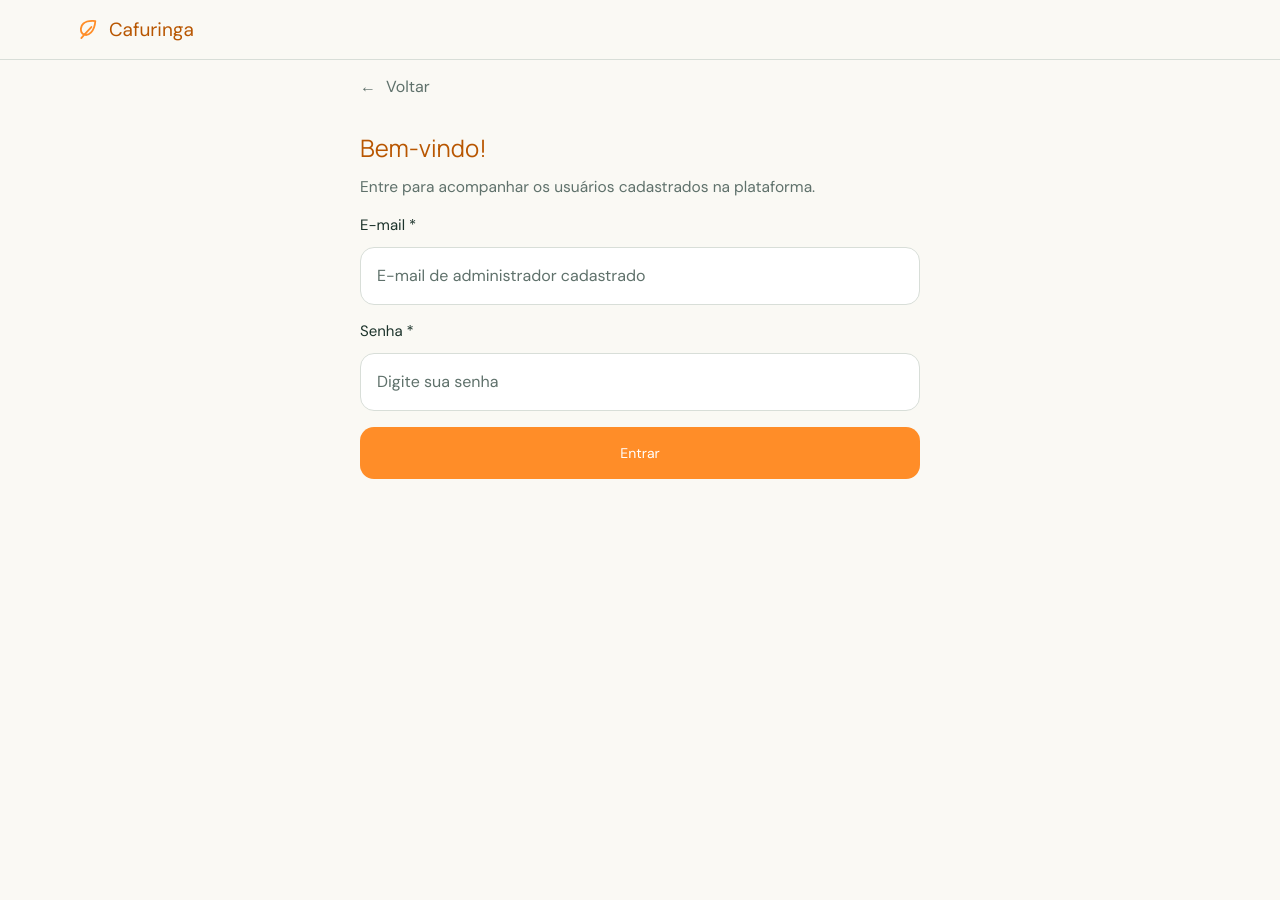
Test: cadastro de administrador — HU03 › preserva os dados para nova tentativa quando a conexão falha
This screenshot has width=1280, height=900.
Type "admin@exemplo.com" into the field labelled "E-mail".
click(640, 276); type("admin@exemplo.com")  # box [360,247,920,305]
Type "senha123" into the password field labelled "Senha".
click(640, 382); type("senha123")  # box [360,353,920,411]
Click the button "Entrar".
click(640, 453)  # box [360,427,920,479]
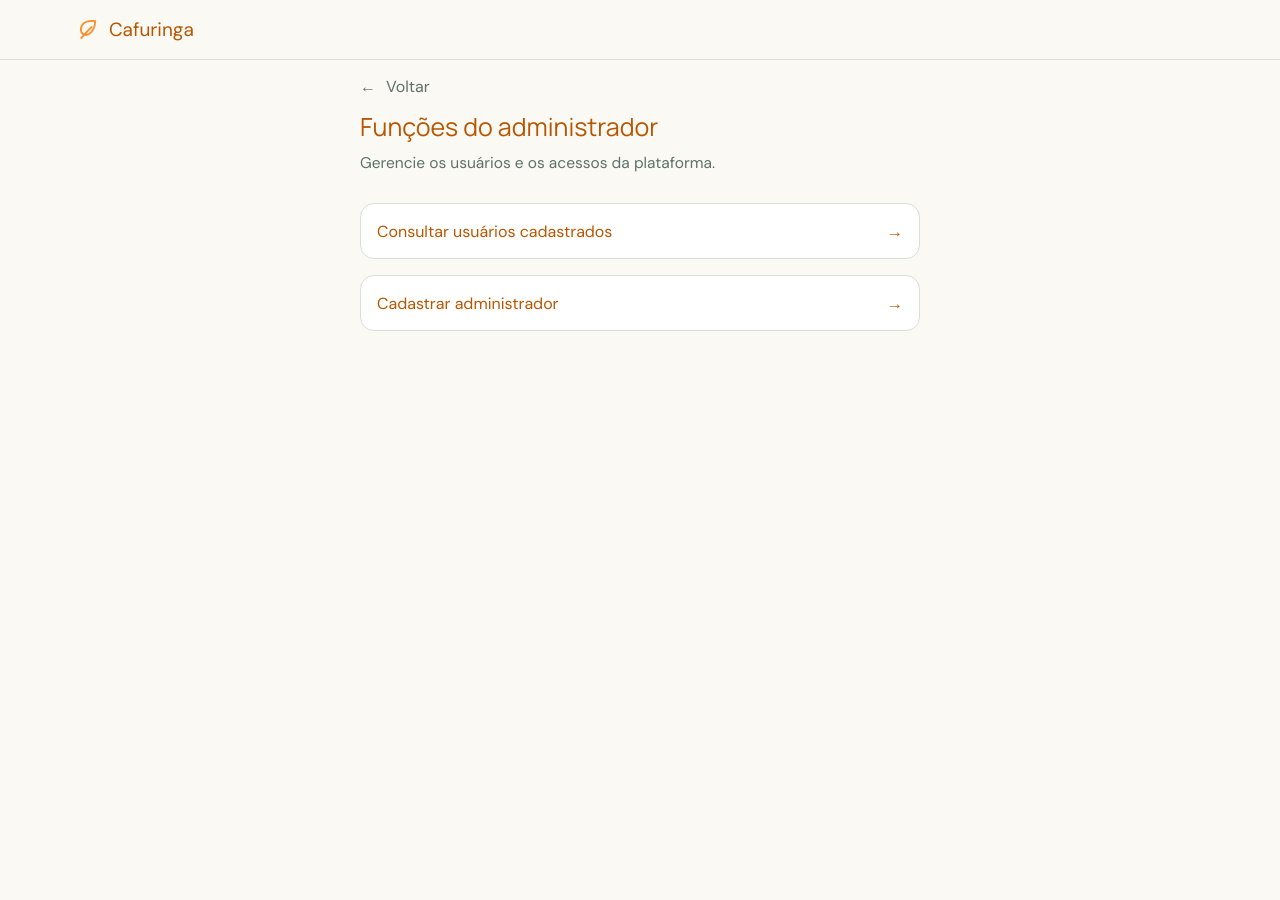
Result: the heading "Funções do administrador" is shown at [360,109,658,144]
Click the link "Cadastrar administrador →".
click(468, 303)  # box [360,275,920,331]
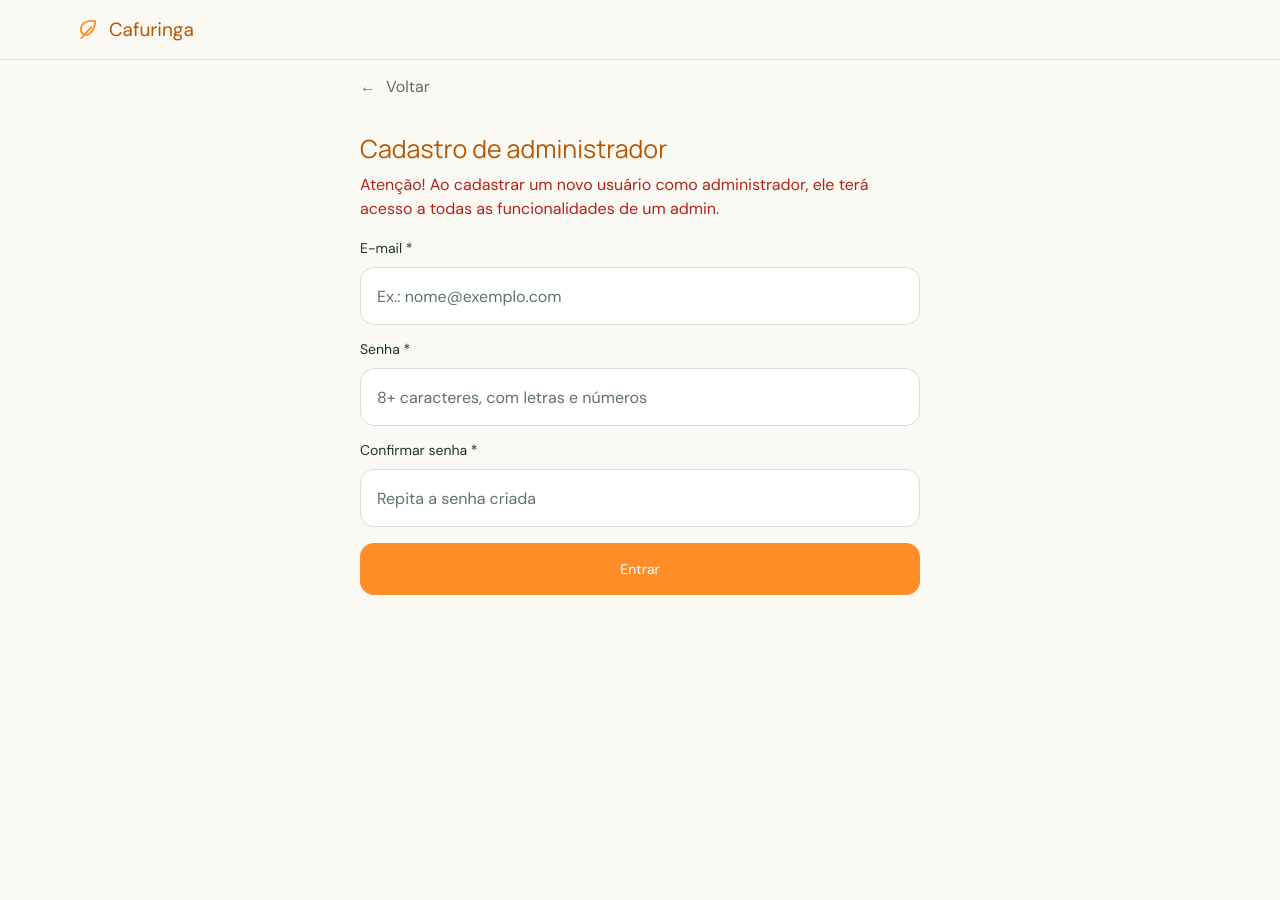
Result: the heading "Cadastro de administrador" is shown at [360,131,667,166]
Type "ana@exemplo.com" into the field labelled "E-mail".
click(640, 296); type("ana@exemplo.com")  # box [360,267,920,325]
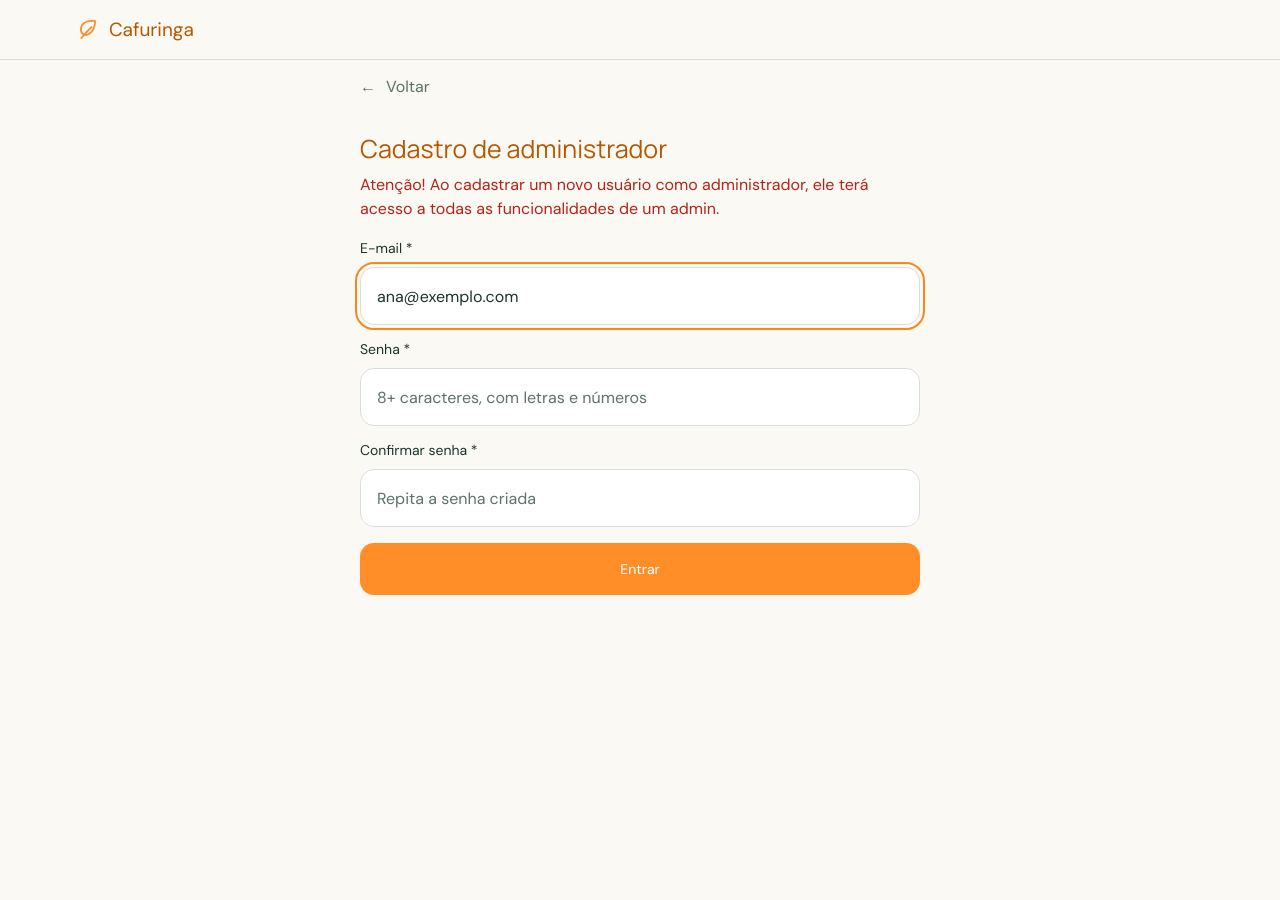
Type "SenhaForte123" into the password field labelled "Senha".
click(640, 397); type("SenhaForte123")  # box [360,368,920,426]
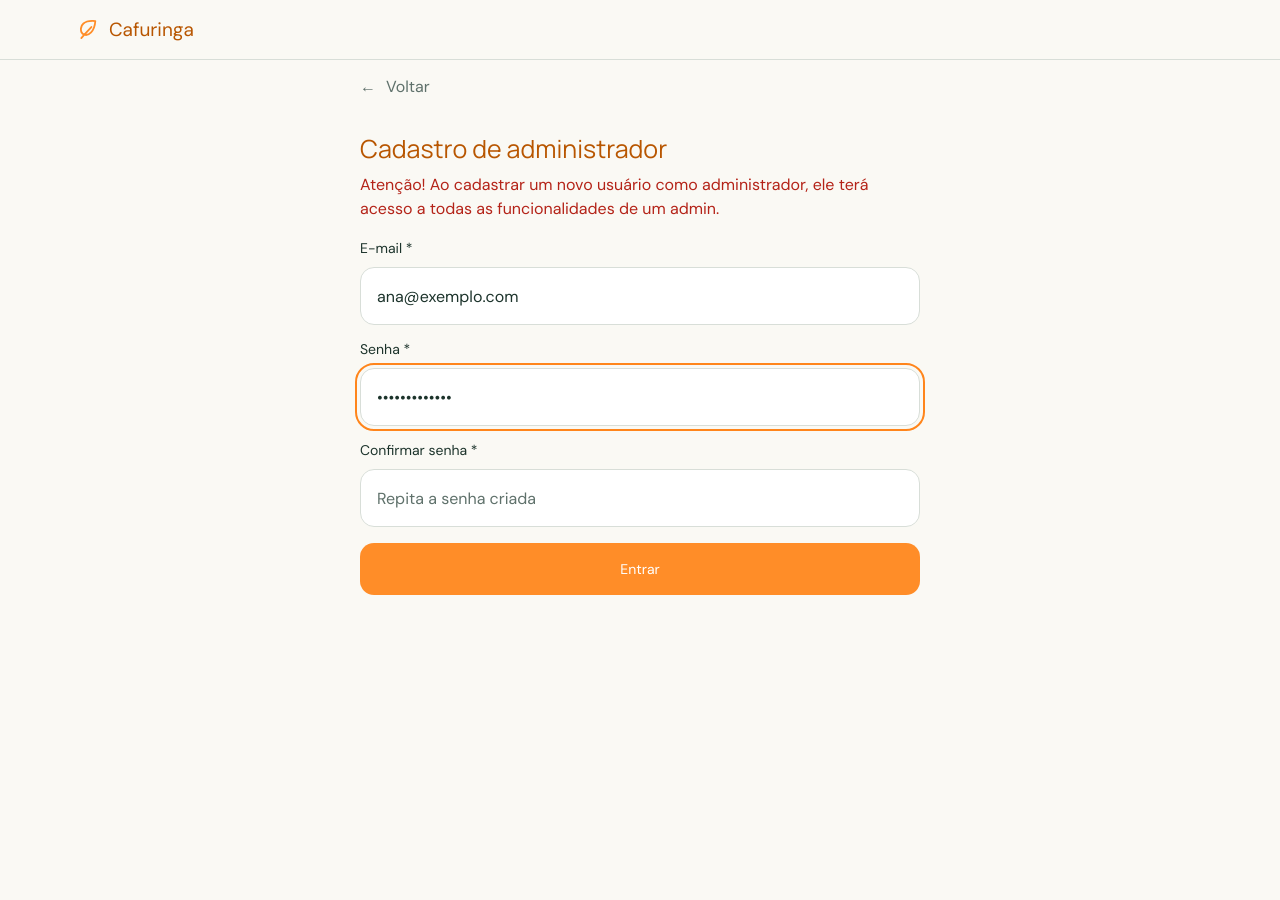
Type "SenhaForte123" into the password field labelled "Confirmar senha".
click(640, 498); type("SenhaForte123")  # box [360,469,920,527]
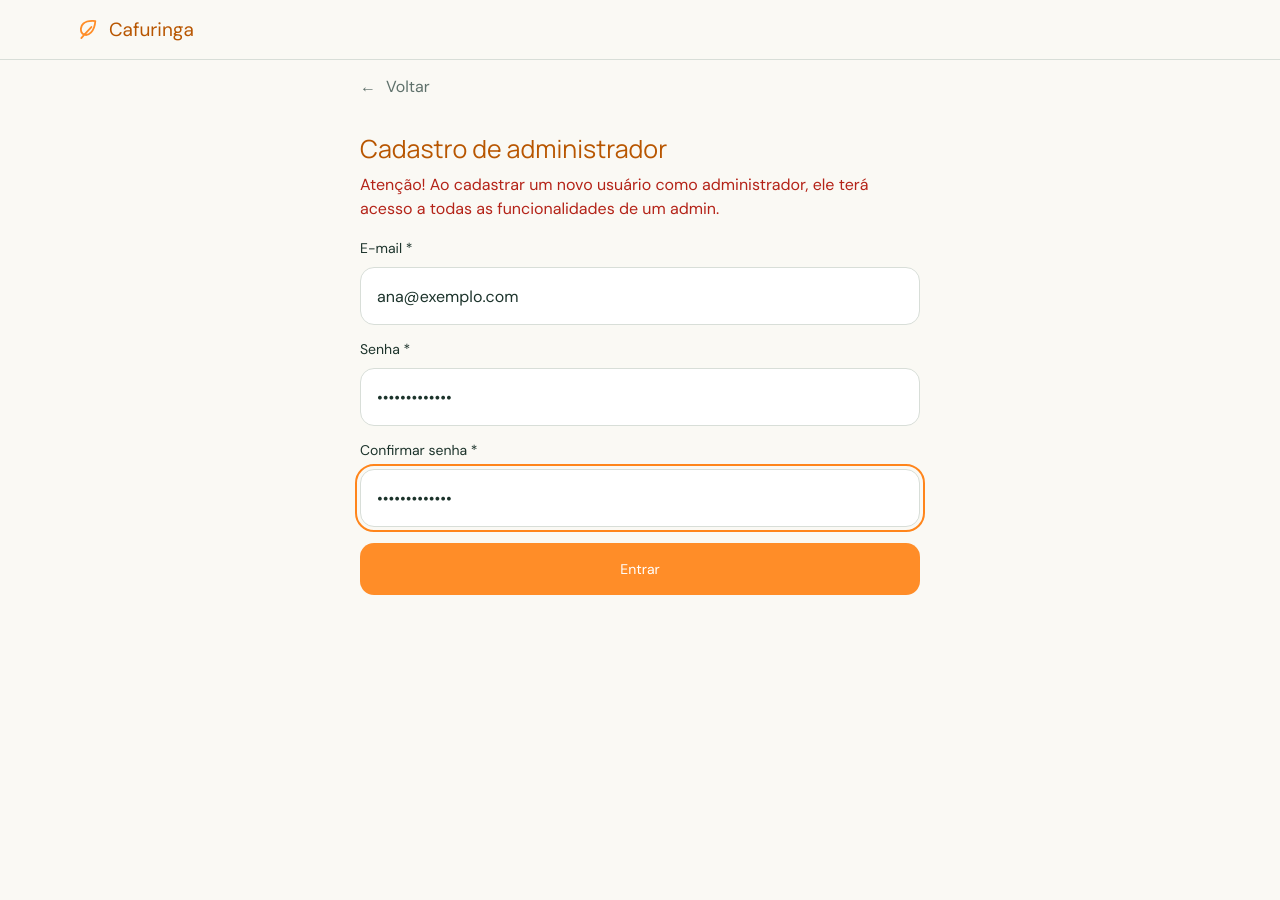
Click the button "Entrar".
click(640, 569)  # box [360,543,920,595]
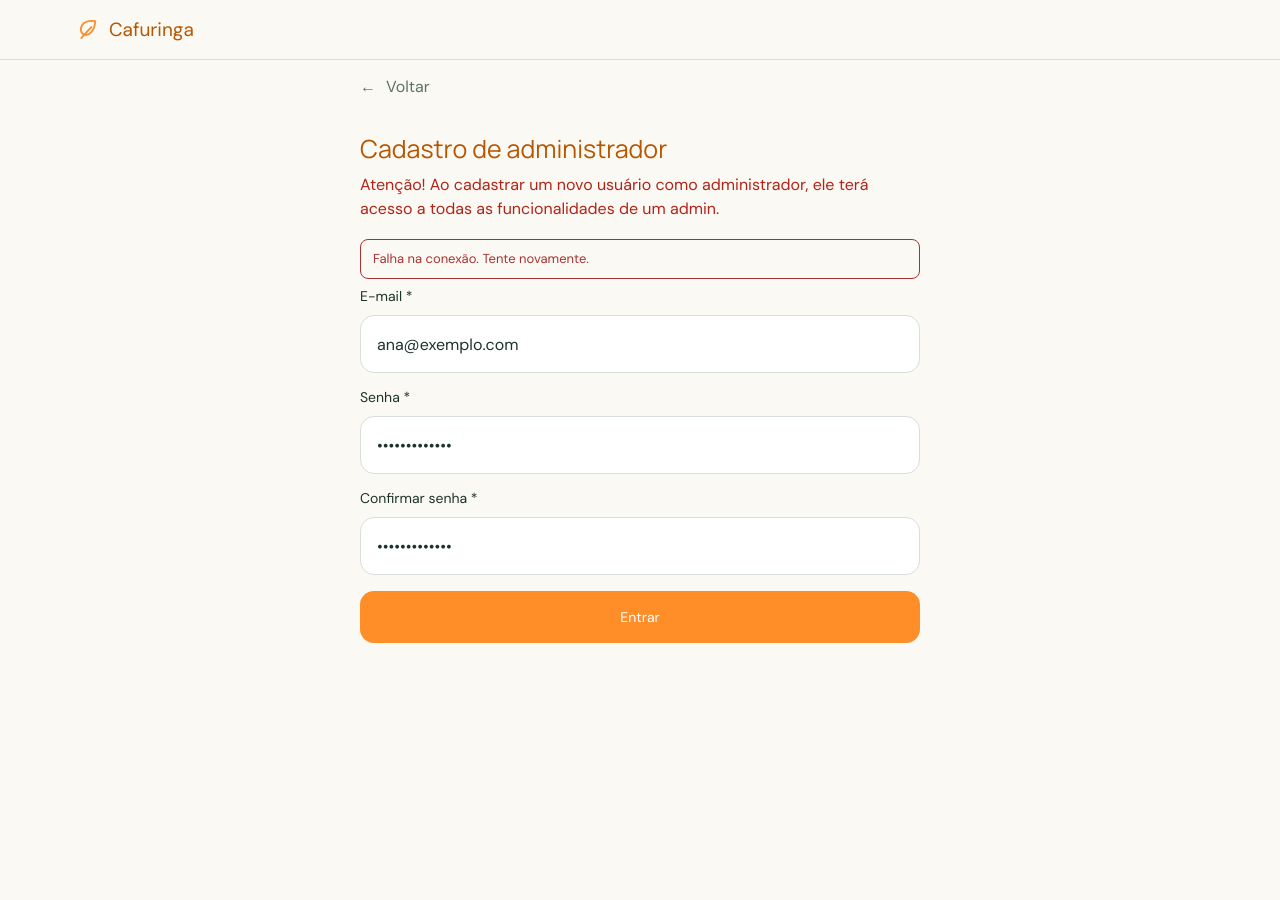
Result: the message reads "Falha na conexão. Tente novamente." at [373,250,589,267]
